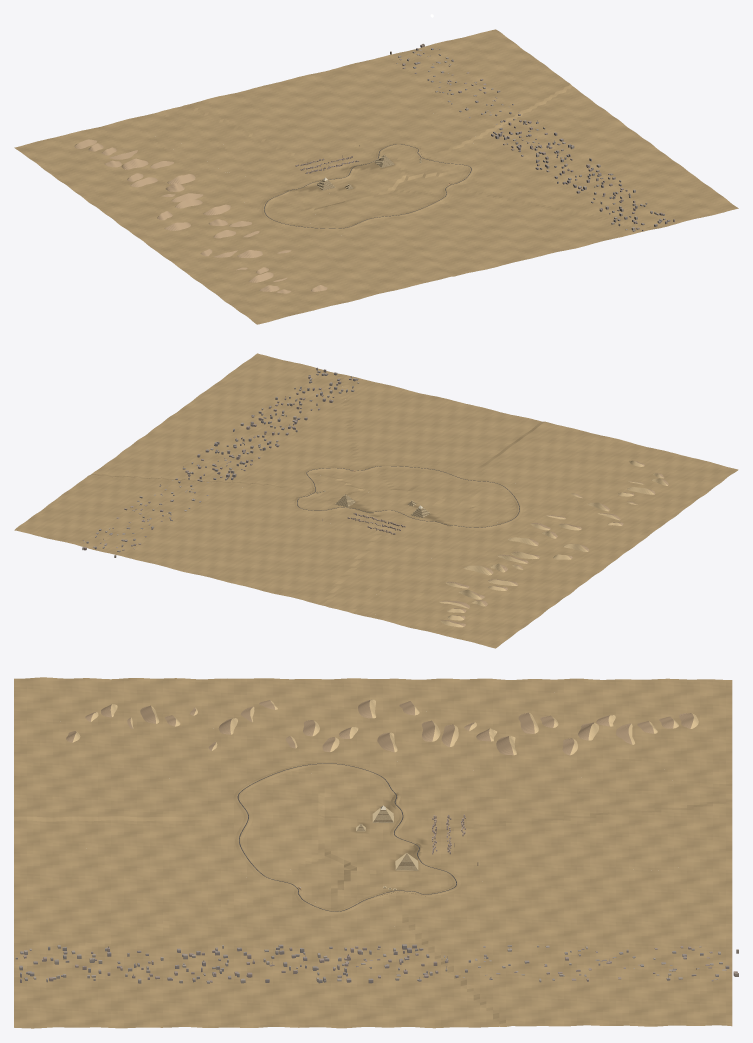
File: giza.glb
3 renders of one model, top to bottom at view 1: azimuth 30°, elevation 25°; view 2: azimuth 150°, elevation 25°; view 3: azimuth 270°, elevation 25°, orthographic. The views are drawn at different scales.
Visible parts, largest first — view 1: Dunes_010, Dunes_016, Dunes_011, Dunes_037, Dunes_017, Peaks, Dunes_009, Dunes_029, Dunes_018, Dunes_021, Dunes_030, Dunes_031 (+24 smaller); view 2: Dunes_010, Dunes_016, Dunes_037, Dunes_011, Dunes_017, Dunes_009, Peaks, Dunes_029, Dunes_018, Dunes_021, Dunes_030, Dunes_031 (+25 smaller); view 3: Dunes_010, Dunes_016, Dunes_011, Dunes_037, Dunes_017, Dunes_009, Peaks, Dunes_029, Dunes_021, Dunes_018, Dunes_030, Dunes_036 (+29 smaller).
Boxes of the visible parts, x1,y1,x2,y2 form: Dunes_010: [272, 29, 506, 150]; Dunes_016: [459, 86, 683, 171]; Dunes_011: [399, 37, 571, 152]; Dunes_037: [14, 129, 296, 206]; Dunes_017: [447, 168, 738, 215]; Peaks: [74, 43, 674, 293]; Dunes_009: [185, 84, 400, 153]; Dunes_029: [335, 219, 453, 299]; Dunes_018: [440, 172, 708, 228]; Dunes_021: [421, 192, 654, 242]; Dunes_030: [295, 212, 359, 313]; Dunes_031: [251, 207, 330, 324]; Dunes_010: [14, 503, 311, 584]; Dunes_016: [91, 393, 316, 483]; Dunes_037: [420, 515, 547, 648]; Dunes_011: [25, 474, 313, 522]; Dunes_017: [203, 353, 331, 477]; Dunes_009: [238, 502, 341, 605]; Peaks: [82, 367, 668, 627]; Dunes_029: [483, 421, 635, 491]; Dunes_018: [285, 361, 355, 478]; Dunes_021: [339, 374, 402, 476]; Dunes_030: [472, 444, 696, 498]; Dunes_031: [465, 459, 738, 504]; Dunes_010: [434, 864, 732, 1026]; Dunes_016: [175, 906, 505, 1028]; Dunes_011: [426, 883, 699, 1026]; Dunes_037: [344, 678, 732, 788]; Dunes_017: [14, 895, 337, 1028]; Dunes_009: [428, 801, 732, 883]; Peaks: [15, 699, 738, 983]; Dunes_029: [14, 751, 266, 821]; Dunes_021: [14, 866, 292, 968]; Dunes_018: [14, 889, 337, 1006]; Dunes_030: [14, 707, 298, 800]; Dunes_036: [324, 678, 576, 791].
Size of the model in its own units: 8255 by 700 by 7281.
